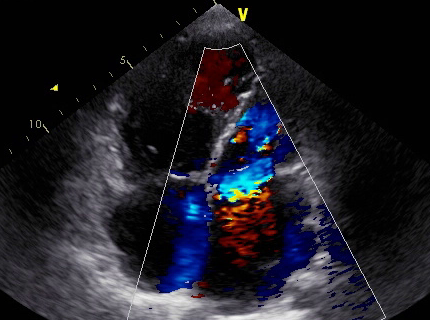MR: (216, 157, 292, 202)
